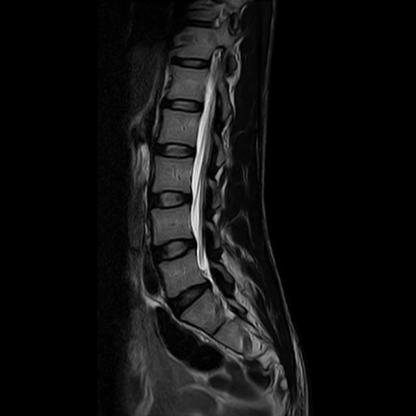Degenerative Disc Diseaserotation: (164, 286, 217, 311)
Disc Bulgerotation: (165, 287, 217, 312)
